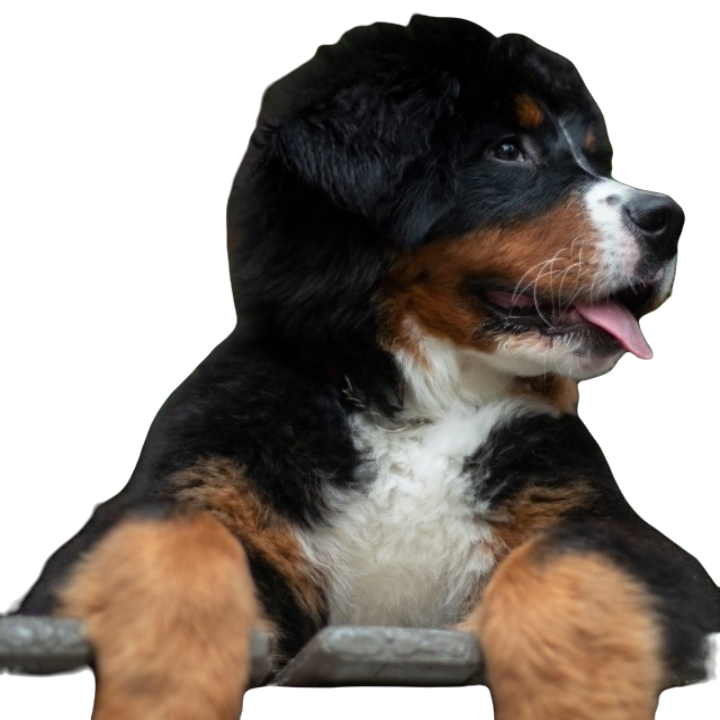Dog: (45, 15, 719, 719)
